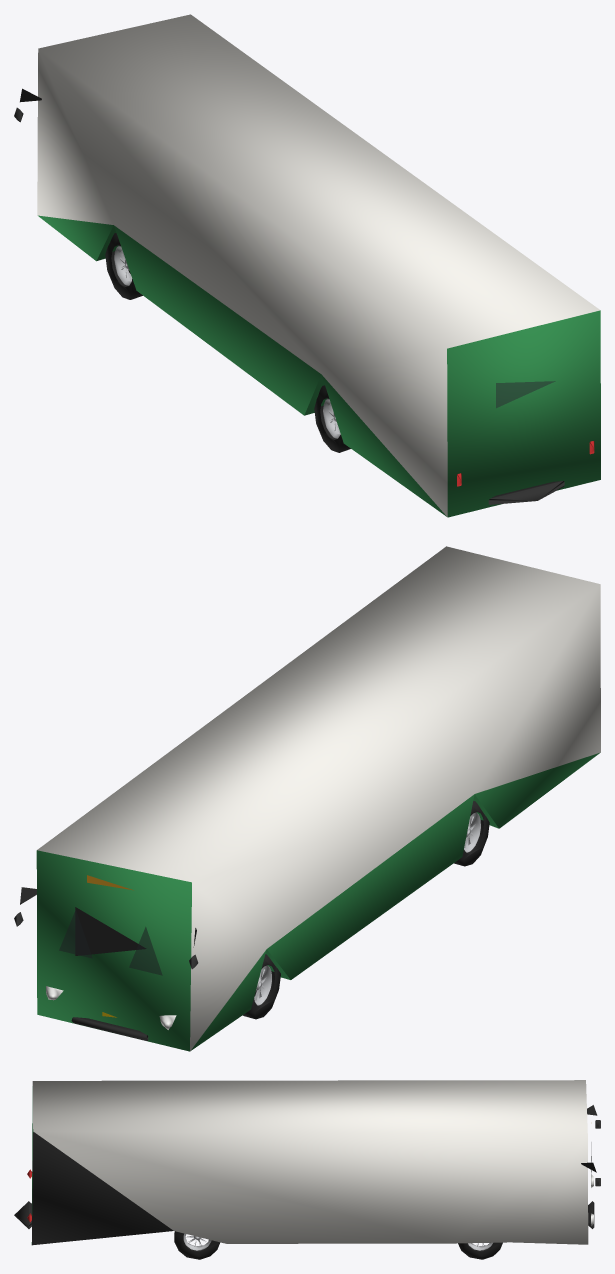
File: bus_1_lo.glb
The picture shows the model from 3 angles, top to bottom: view 1: azimuth 30°, elevation 25°; view 2: azimuth 150°, elevation 25°; view 3: azimuth 270°, elevation 25°; orthographic projection. The views are drawn at different scales.
Parts seen in each view (by area): view 1: body, wheel_0, wheel_2; view 2: body, wheel_0, wheel_2; view 3: body, wheel_3, wheel_1.
Part boxes in pixels (x1,y1,x2,y2): body: (14,14,600,517); wheel_0: (105,233,142,299); wheel_2: (314,385,350,452); body: (14,546,600,1051); wheel_0: (243,954,280,1019); wheel_2: (454,801,489,866); body: (14,1080,600,1245); wheel_3: (174,1231,220,1259); wheel_1: (458,1242,502,1259).
Bounding box in the file's own units: 3.06 × 3.07 × 12.46.
